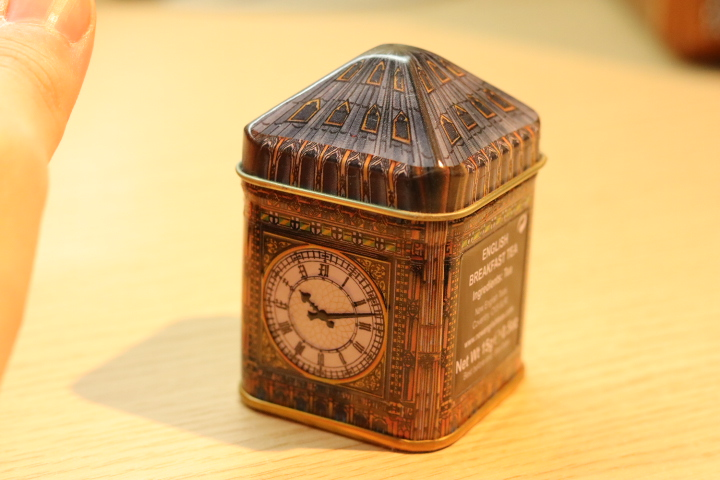Big Ben: (213, 30, 573, 457)
